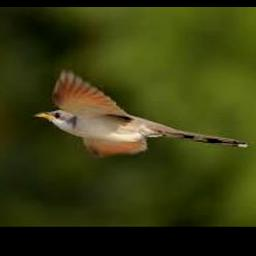Cuckoo: (34, 70, 248, 154)
